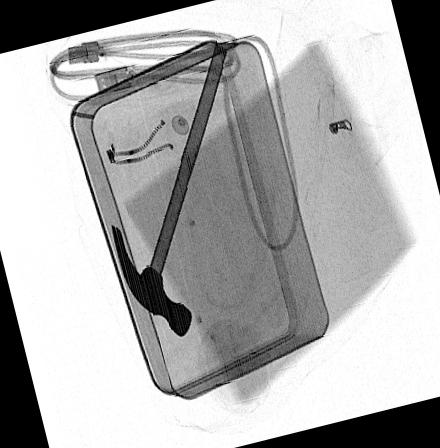Hammer: (111, 42, 227, 337)
